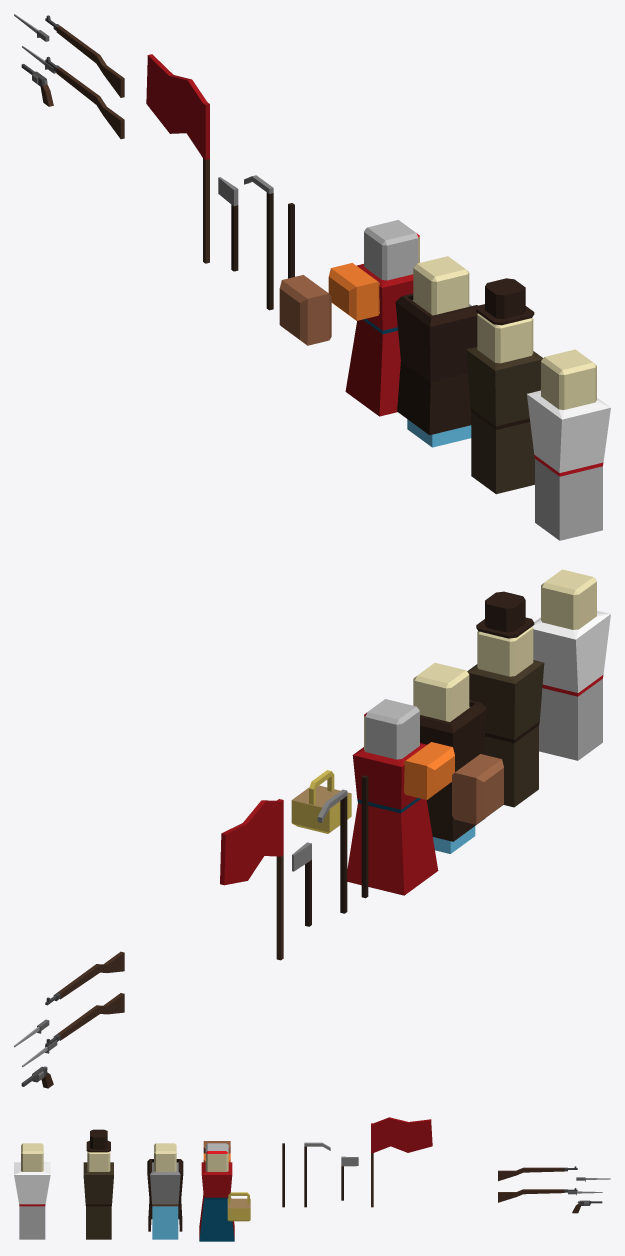
The model's file is Humans.fbx.
The picture shows the model from 3 angles, top to bottom: view 1: azimuth 30°, elevation 25°; view 2: azimuth 150°, elevation 25°; view 3: azimuth 270°, elevation 25°; orthographic projection. The views are drawn at different scales.
Visible parts, largest first — view 1: Man2, Man3, Man, Woman, O5, Backpack2, Backpack1, O3, Gun2, Gun1, O4; view 2: Woman, Man, Man2, Man3, O5, Backpack2, Backpack1, O1, O3, Gun2, O2, Gun1 (+1 smaller); view 3: Man3, Man2, Woman, Man, O5, O1, Gun2, Gun1, O3, O4, O2.
Boxes of the visible parts, box(x1,y1,x2,y2) form: Man2: box(466, 278, 542, 494); Man3: box(395, 256, 478, 447); Man: box(527, 349, 610, 540); Woman: box(345, 220, 419, 416); O5: box(146, 54, 209, 263); Backpack2: box(279, 275, 331, 345); Backpack1: box(328, 263, 379, 320); O3: box(244, 175, 273, 310); Gun2: box(22, 46, 124, 139); Gun1: box(45, 15, 124, 97); O4: box(218, 177, 238, 271); Woman: box(347, 699, 438, 895); Man: box(532, 569, 610, 760); Man2: box(467, 591, 544, 807); Man3: box(413, 662, 487, 853); O5: box(220, 799, 283, 960); Backpack2: box(452, 754, 503, 824); Backpack1: box(404, 742, 454, 799); O1: box(291, 770, 351, 833); O3: box(317, 789, 347, 913); Gun2: box(22, 993, 124, 1066); O2: box(361, 775, 368, 898); Gun1: box(45, 951, 124, 1005); Man3: box(147, 1143, 183, 1239); Man2: box(83, 1129, 113, 1239); Woman: box(199, 1143, 234, 1241); Man: box(14, 1143, 50, 1239); O5: box(371, 1117, 432, 1207); O1: box(227, 1192, 250, 1221); Gun2: box(498, 1188, 602, 1202); Gun1: box(498, 1166, 577, 1181); O3: box(304, 1142, 330, 1207); O4: box(341, 1156, 358, 1200); O2: box(282, 1143, 284, 1207).
Bounding box in the file's own units: 139 × 160 × 808.
